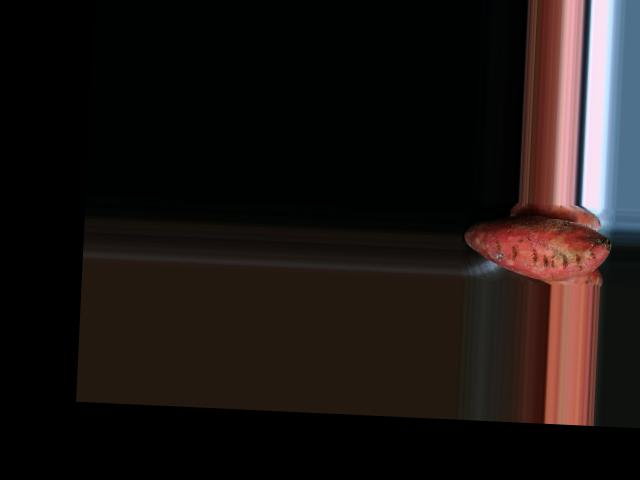sweet_potato: (463, 219, 612, 278)
